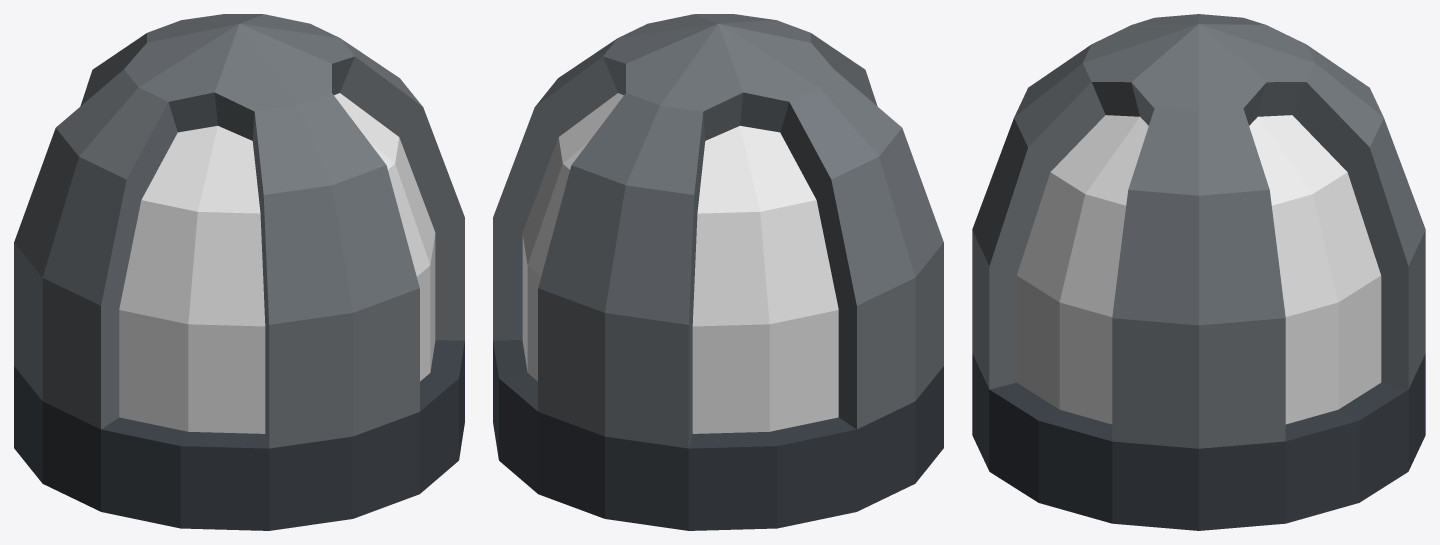
The model's file is Emergency light.fbx.
The picture shows the model from 3 angles, left to right: view 1: azimuth 30°, elevation 25°; view 2: azimuth 150°, elevation 25°; view 3: azimuth 270°, elevation 25°; orthographic projection.
Visible parts, largest first — view 1: Cylinder; view 2: Cylinder; view 3: Cylinder.
Part boxes in pixels (bbox=[...]): Cylinder: bbox=[14, 14, 464, 530]; Cylinder: bbox=[493, 14, 943, 530]; Cylinder: bbox=[972, 14, 1425, 530].
Bounding box in the file's own units: 0.2 × 0.2 × 0.2.
